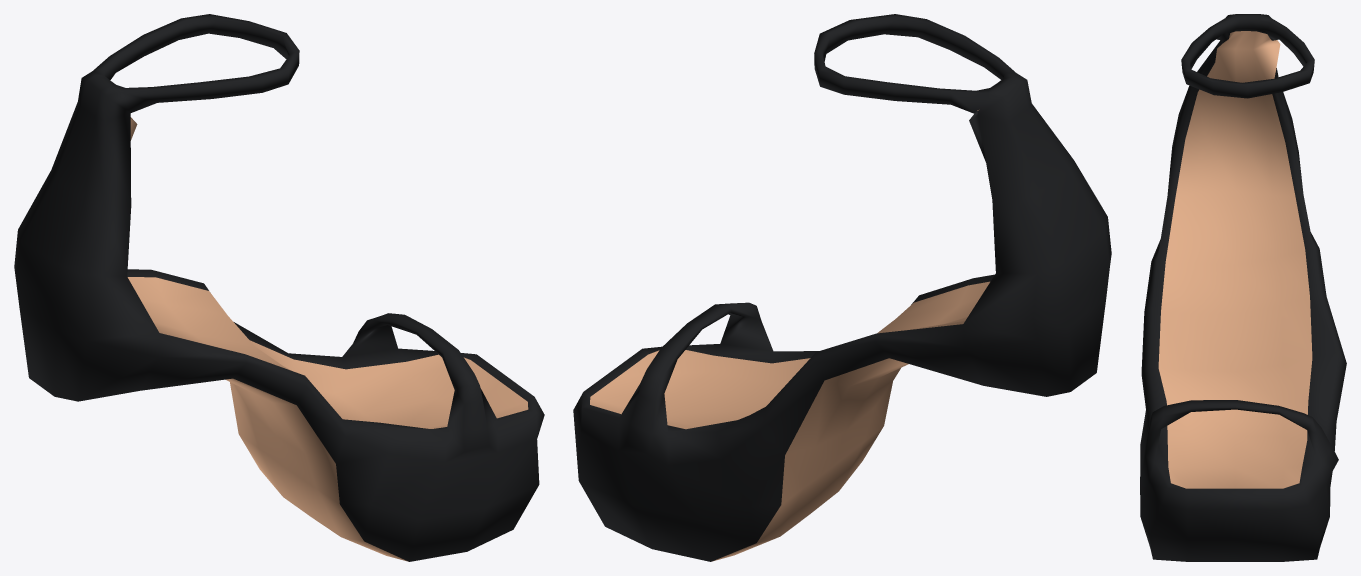
Rendered from ayakkabi1.fbx.
The picture shows the model from 3 angles, left to right: view 1: azimuth 30°, elevation 25°; view 2: azimuth 150°, elevation 25°; view 3: azimuth 270°, elevation 25°; orthographic projection. The views are drawn at different scales.
Visible parts, largest first — view 1: Plane.002; view 2: Plane.002; view 3: Plane.002.
Part boxes in pixels (bbox=[...]): Plane.002: bbox=[14, 14, 544, 561]; Plane.002: bbox=[573, 14, 1111, 561]; Plane.002: bbox=[1140, 14, 1346, 561].
Bounding box in the file's own units: 372 × 384 × 170.
